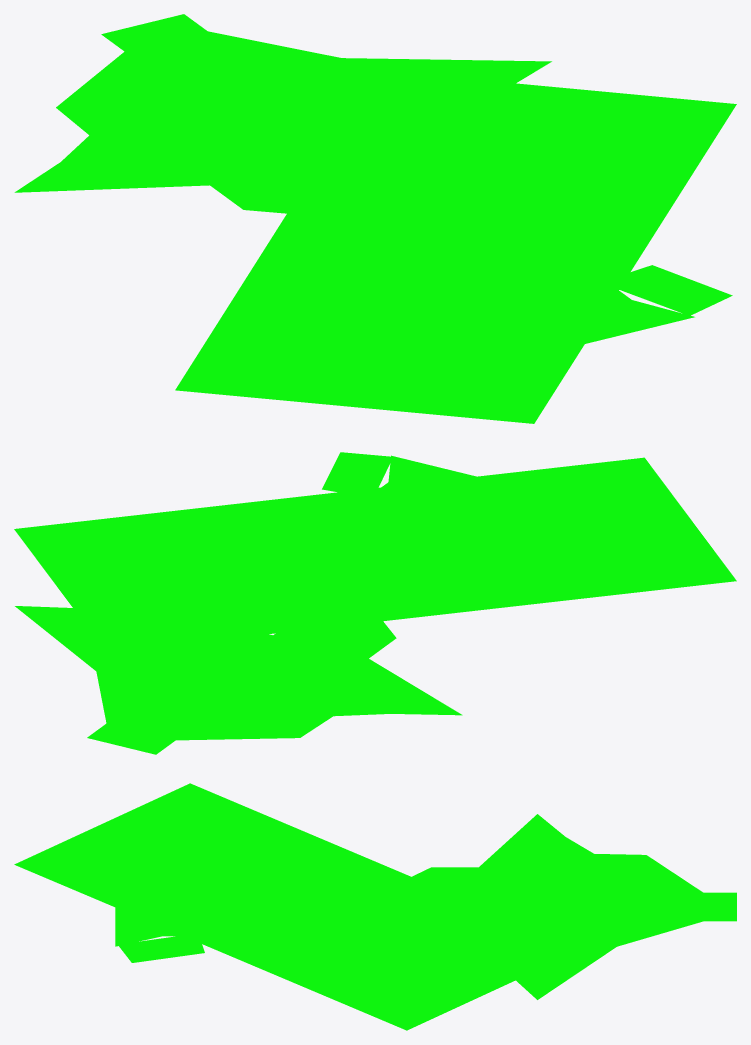
The model's file is s00e_sa1-floor.glb.
3 renders of one model, top to bottom at view 1: azimuth 30°, elevation 25°; view 2: azimuth 150°, elevation 25°; view 3: azimuth 270°, elevation 25°, orthographic. The views are drawn at different scales.
Visible parts, largest first — view 1: collision_floor-colonly; view 2: collision_floor-colonly; view 3: collision_floor-colonly.
Part boxes in pixels (<box>): collision_floor-colonly: <box>14,14,736,423</box>; collision_floor-colonly: <box>14,452,736,754</box>; collision_floor-colonly: <box>14,783,736,1030</box>.
Bounding box in the file's own units: 52.39 × 0.1523 × 64.71.
